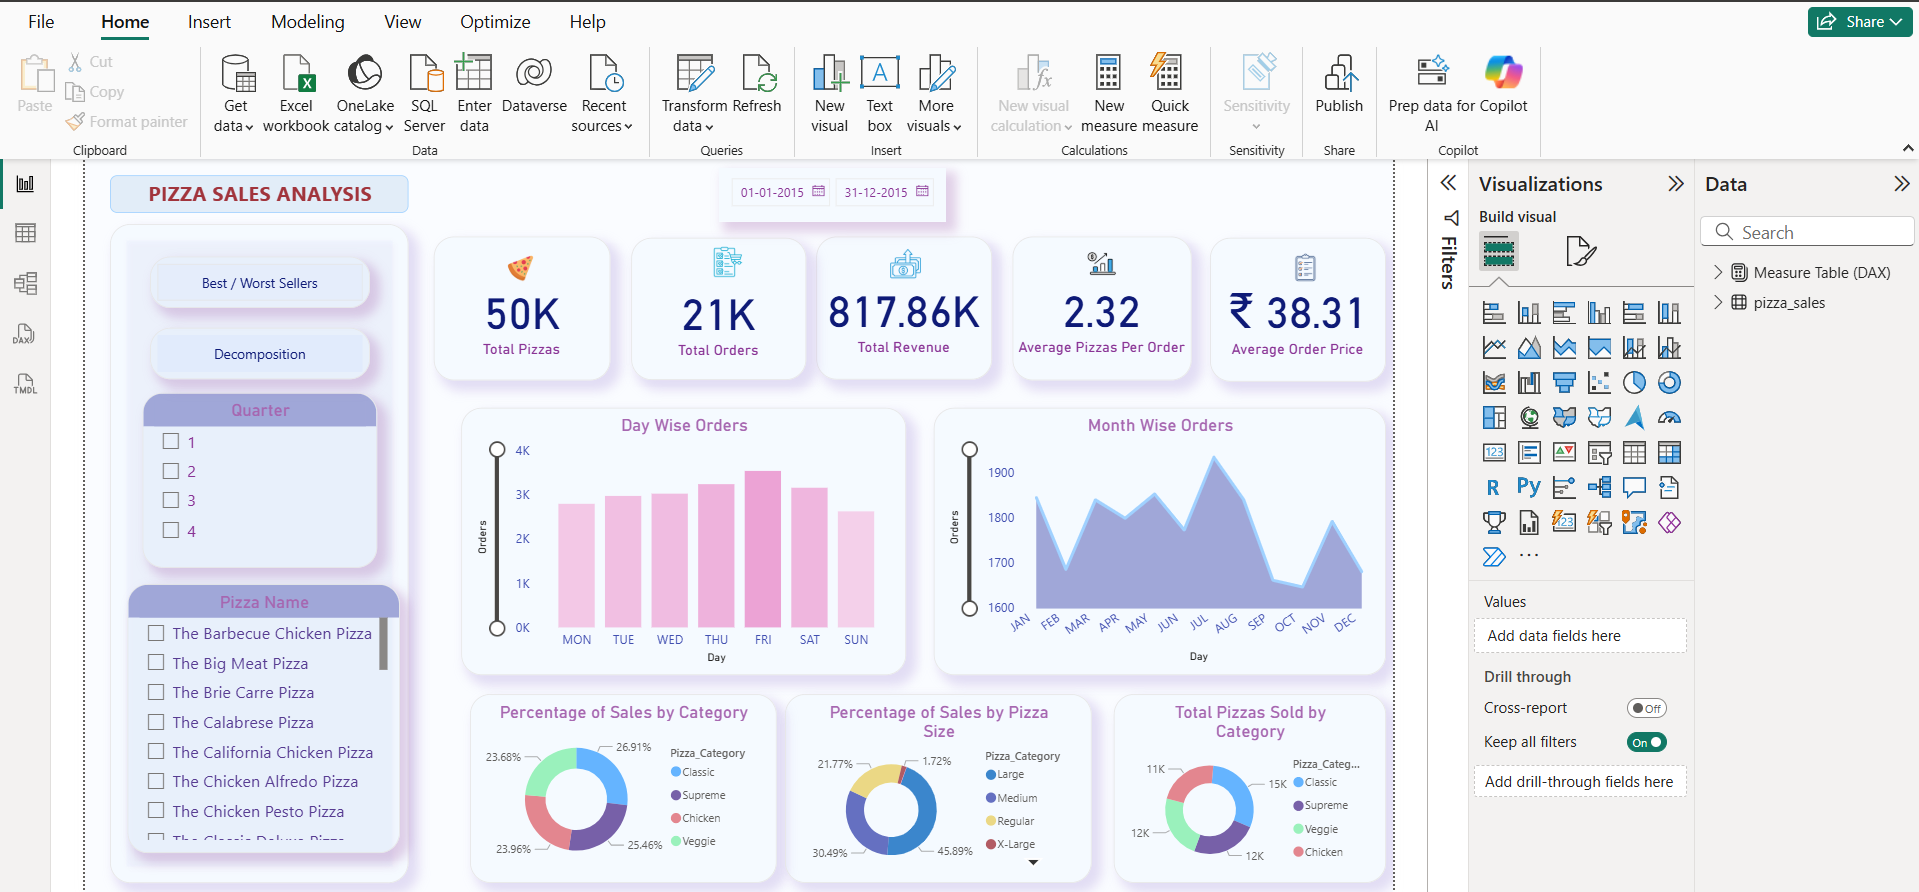

This screenshot's page, from the dashboard's own definition file:
{"tool":"powerbi","page":{"name":"Dashboard","canvas":[1280,720],"ordinal":0},"visuals":[{"type":"card","title":"Total Revenue","fields":{"Values":["Measure Table (DAX).Total Revenue"]},"box":[715.1,75.8,172,140],"z":0},{"type":"card","title":"Avg Order Price","fields":{"Values":["Measure Table (DAX).Average Order Price"]},"box":[1100.3,77,172,140.6],"z":1000},{"type":"card","title":"Avg Pizza Per Order","fields":{"Values":["Measure Table (DAX).Average Pizza Per Order"]},"box":[907.1,75.8,175,140.6],"z":2000},{"type":"card","title":"Total Orders","fields":{"Values":["Measure Table (DAX).Total Orders"]},"box":[534.4,77,171.2,139.4],"z":3000},{"type":"card","title":"Total Pizzas","fields":{"Values":["Measure Table (DAX).Total Pizzas"]},"box":[340.9,75.8,172.4,140.6],"z":4000},{"type":"textbox","title":"PIZZA SALES ANALYSIS","box":[24.7,16.5,292.3,37],"z":5000},{"type":"image","box":[408.4,84.4,35.5,45.2],"z":6000},{"type":"image","box":[608.8,78.8,40,48.8],"z":7000},{"type":"image","box":[767.9,84.4,69.7,40.4],"z":8000},{"type":"image","box":[1175.1,88,37.9,40.4],"z":9000},{"type":"image","box":[975.8,79.5,37.9,48.9],"z":10000},{"type":"columnChart","title":"Day Wise Orders","fields":{"Category":["pizza_sales.Order Day Name"],"Y":["Measure Table (DAX).Total Orders"]},"box":[368.1,243.3,435.3,261.7],"z":11000},{"type":"areaChart","title":"Month Wise Orders","fields":{"Category":["pizza_sales.Month"],"Y":["Measure Table (DAX).Total Orders"]},"box":[830,243.8,442.5,261.2],"z":12000},{"type":"donutChart","title":"Percentage of Sales by Category","fields":{"Category":["pizza_sales.pizza_category"],"Y":["Measure Table (DAX).Total Revenue"]},"box":[376.2,523.8,300,185],"z":13000},{"type":"donutChart","title":"Percentage of Sales by Pizza Size","fields":{"Y":["Measure Table (DAX).Total Revenue"],"Category":["pizza_sales.pizza_size"]},"box":[685,523.8,300,185],"z":14000},{"type":"donutChart","title":"Total Pizzas Sold by Category","fields":{"Category":["pizza_sales.pizza_category"],"Y":["Measure Table (DAX).Total Pizzas"]},"box":[1006.2,523.8,266.2,185],"z":15000},{"type":"shape","box":[24.5,63.6,292.3,644.4],"z":16000},{"type":"slicer","title":"Quarter","fields":{"Values":["pizza_sales.Quarter"]},"box":[56.3,228.7,229.9,171.2],"z":17000},{"type":"slicer","title":"Pizza Name","fields":{"Values":["pizza_sales.pizza_name"]},"box":[41.6,415.8,266.6,262.9],"z":18000},{"type":"slicer","fields":{"Values":["pizza_sales.order_date"]},"box":[620,8.8,222.5,52.5],"z":19000},{"type":"pageNavigator","box":[63.6,95.4,215.2,50.1],"z":20000},{"type":"pageNavigator","box":[63.6,165.1,215.2,50.1],"z":21000}]}

Visuals, with their boxes on the page's 1280x720 design canvas (x1, y1, x2, y2). These are canvas units, not pixel positions in the 1919x892 screenshot, which may show the page scaled, cropped or inside an application window:
"Total Revenue" card: 715, 76, 887, 216
"Avg Order Price" card: 1100, 77, 1272, 218
"Avg Pizza Per Order" card: 907, 76, 1082, 216
"Total Orders" card: 534, 77, 706, 216
"Total Pizzas" card: 341, 76, 513, 216
"PIZZA SALES ANALYSIS" textbox: 25, 16, 317, 54
image: 408, 84, 444, 130
image: 609, 79, 649, 128
image: 768, 84, 838, 125
image: 1175, 88, 1213, 128
image: 976, 80, 1014, 128
"Day Wise Orders" columnChart: 368, 243, 803, 505
"Month Wise Orders" areaChart: 830, 244, 1272, 505
"Percentage of Sales by Category" donutChart: 376, 524, 676, 709
"Percentage of Sales by Pizza Size" donutChart: 685, 524, 985, 709
"Total Pizzas Sold by Category" donutChart: 1006, 524, 1272, 709
shape: 24, 64, 317, 708
"Quarter" slicer: 56, 229, 286, 400
"Pizza Name" slicer: 42, 416, 308, 679
slicer - pizza_sales.order_date: 620, 9, 842, 61
pageNavigator: 64, 95, 279, 146
pageNavigator: 64, 165, 279, 215
